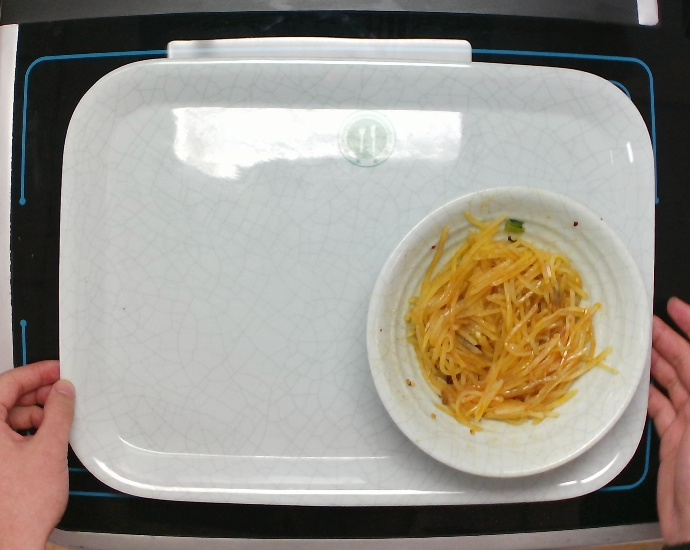JYsf-Xiao_Tang_Wan: (359, 181, 657, 482)
